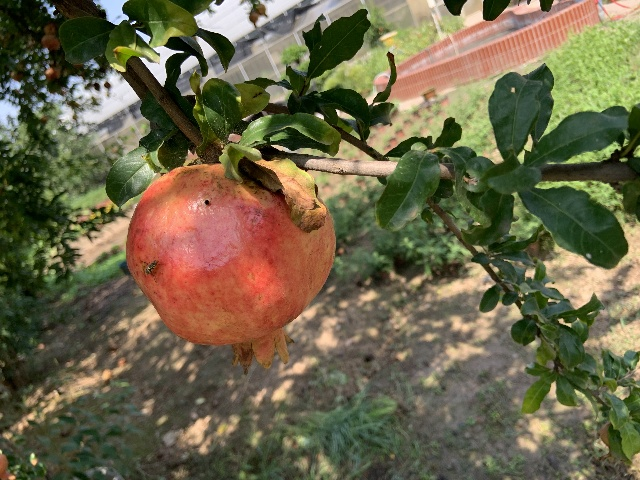ripe: (125, 163, 336, 375)
